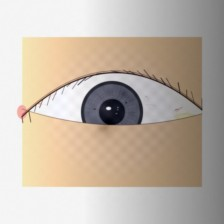pinguecula_lesion: (162, 98, 210, 136)
